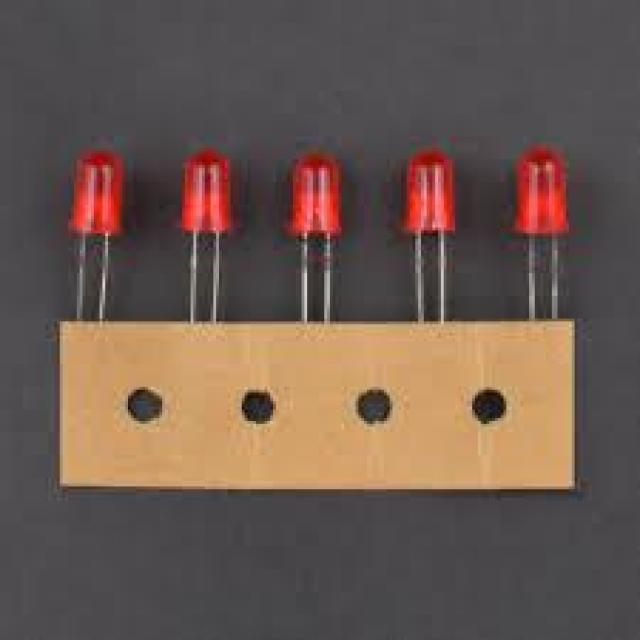Led: (515, 144, 569, 319), (289, 154, 341, 322), (405, 149, 455, 321), (182, 154, 203, 322)
